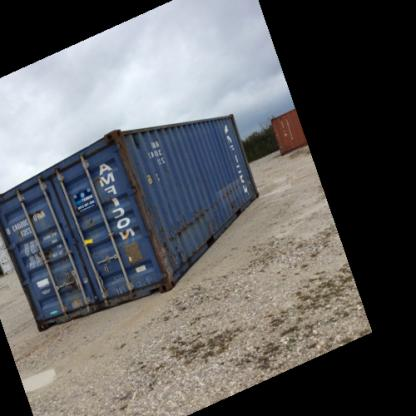Damage: (113, 136, 143, 204), (150, 230, 186, 272), (219, 183, 247, 217), (184, 202, 208, 232), (43, 236, 65, 266), (60, 266, 82, 294), (84, 208, 96, 224)
